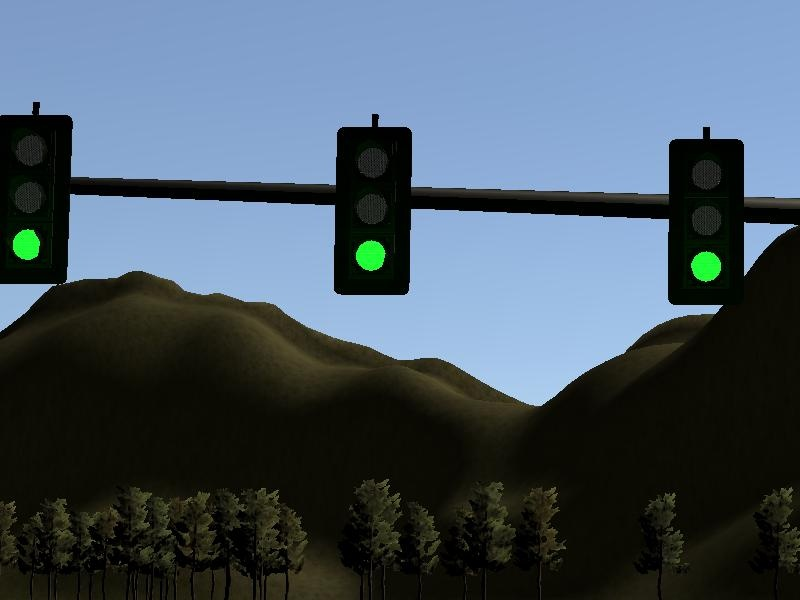GREEN: (661, 136, 747, 307), (332, 125, 411, 300), (1, 113, 70, 287)
